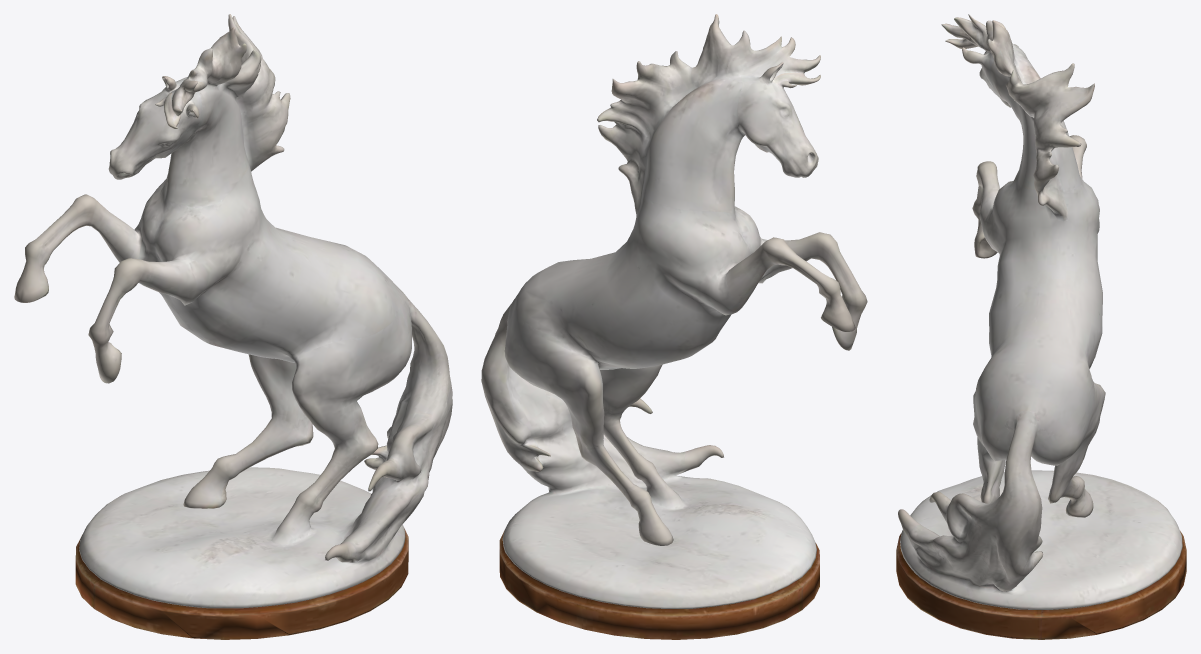
Rendered from horse_statue_01.glb.
3 views of the same model, side by side, from view 1: azimuth 30°, elevation 25°; view 2: azimuth 150°, elevation 25°; view 3: azimuth 270°, elevation 25° (orthographic). The views are drawn at different scales.
Visible parts, largest first — view 1: horse_statue_01; view 2: horse_statue_01; view 3: horse_statue_01.
Part boxes in pixels (x1,y1,x2,y2): horse_statue_01: (14,14,452,639); horse_statue_01: (481,14,867,639); horse_statue_01: (896,14,1186,639).
Bounding box in the file's own units: 0.1638 × 0.22 × 0.1078.
1 material, 1 textured.
